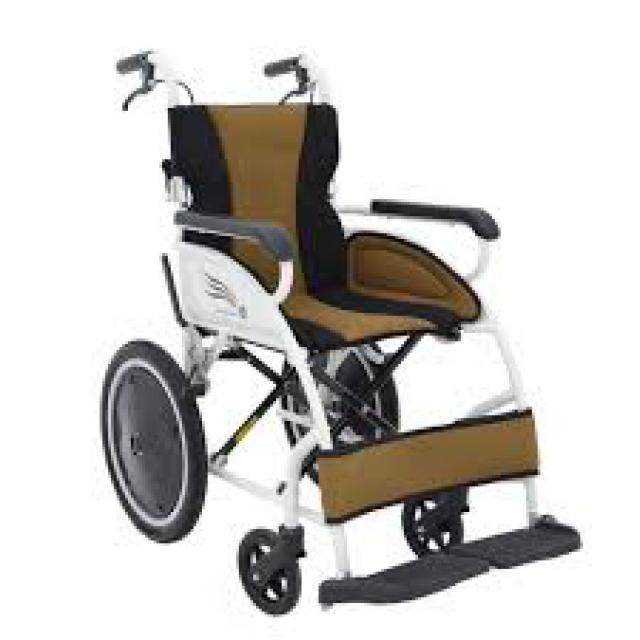wheelchair: (42, 37, 586, 637)
